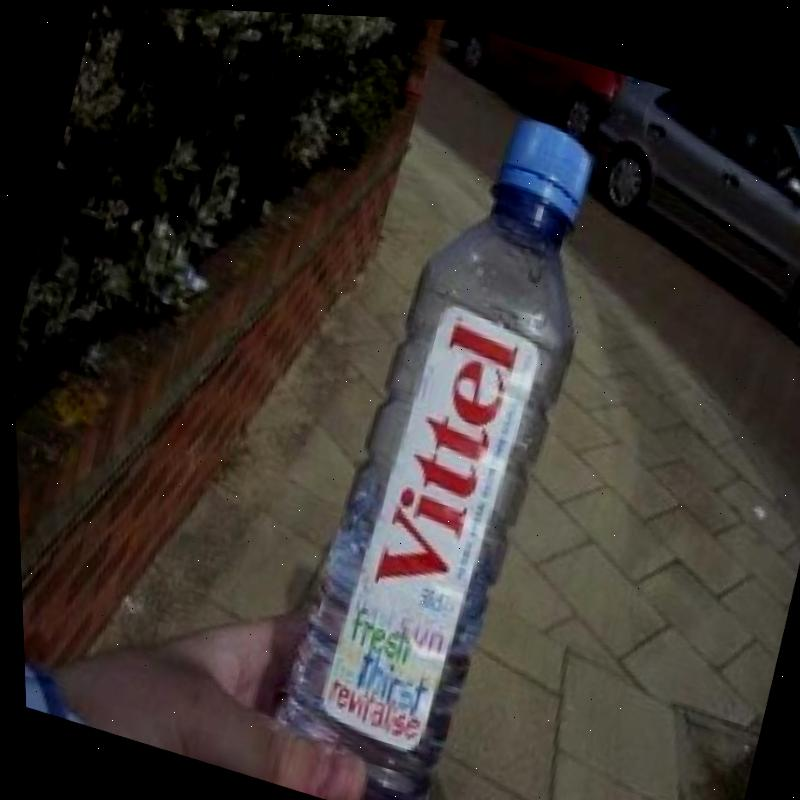botella: (232, 71, 639, 800)
